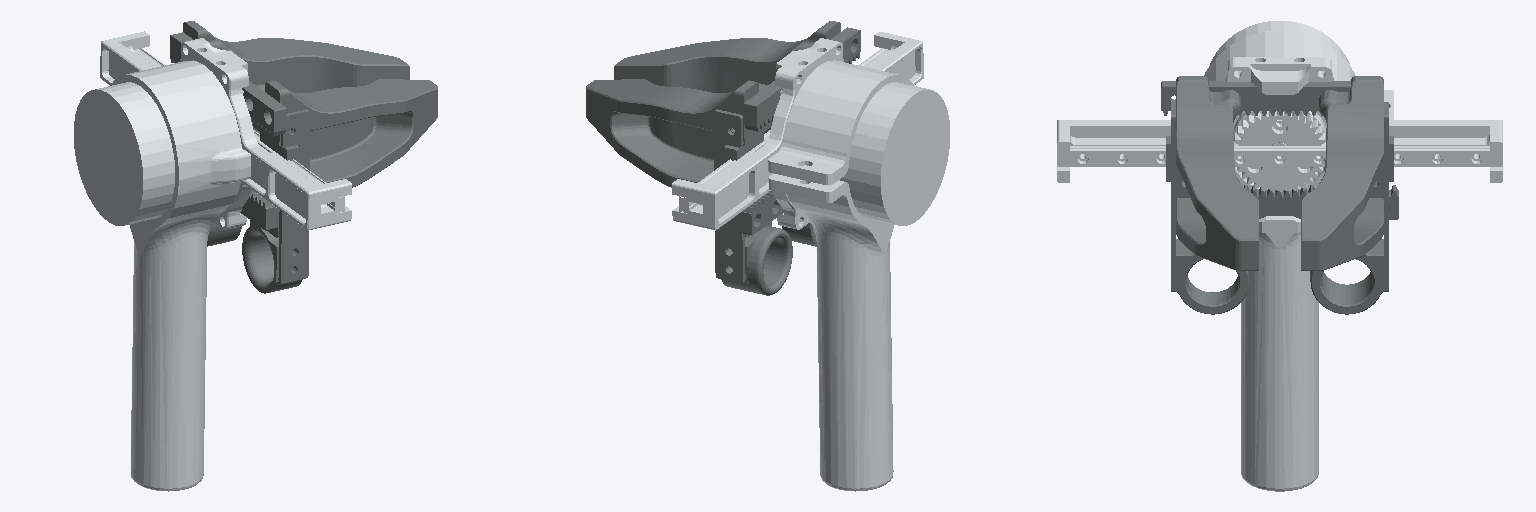
URDF robot description (y1_description):
<?xml version="1.0" encoding="utf-8"?>
<!-- This URDF was automatically created by SolidWorks to URDF Exporter! Originally created by [author] ([email redacted]) 
     Commit Version: 1.6.0-4-g7f85cfe  Build Version: 1.6.7995.38578
     For more information, please see http://wiki.ros.org/sw_urdf_exporter -->
<robot
  name="y1_description">
  <link name="world" />
  <joint name="fixed_base_joint" type="fixed">
      <parent link="world" />
      <child link="base_link" />
  </joint>
  <link
    name="base_link">
    <inertial>
      <origin
        xyz="-0.00594885814133116 1.74815920780943E-07 0.0348007672592276"
        rpy="0 0 0" />
      <mass
        value="0.710539568297306" />
      <inertia
        ixx="0.000443657464008301"
        ixy="6.25566859542446E-08"
        ixz="9.59870028750108E-07"
        iyy="0.000441077995533288"
        iyz="-9.972591125058E-09"
        izz="0.000508211347165629" />
    </inertial>
    <visual>
      <origin
        xyz="0 0 0"
        rpy="0 0 0" />
      <geometry>
        <mesh
          filename="package://y1_description/meshes3/base_link.STL" />
      </geometry>
      <material
        name="">
        <color
          rgba="1 1 1 1" />
      </material>
    </visual>
    <collision>
      <origin
        xyz="0 0 0"
        rpy="0 0 0" />
      <geometry>
        <mesh
          filename="package://y1_description/meshes3/base_link.STL" />
      </geometry>
    </collision>
  </link>
  <link
    name="link1">
    <inertial>
      <origin
        xyz="0.000681166801672071 -0.000462329144553358 0.045774892481422"
        rpy="0 0 0" />
      <mass
        value="0.465086237348566" />
      <inertia
        ixx="0.000229226849289421"
        ixy="6.51443398285881E-09"
        ixz="4.13823216869875E-08"
        iyy="0.000349392243512686"
        iyz="4.09909327547663E-06"
        izz="0.000228246849171451" />
    </inertial>
    <visual>
      <origin
        xyz="0 0 0"
        rpy="0 0 0" />
      <geometry>
        <mesh
          filename="package://y1_description/meshes3/link1.STL" />
      </geometry>
      <material
        name="">
        <color
          rgba="0.898039215686275 0.917647058823529 0.929411764705882 1" />
      </material>
    </visual>
    <collision>
      <origin
        xyz="0 0 0"
        rpy="0 0 0" />
      <geometry>
        <mesh
          filename="package://y1_description/meshes3/link1.STL" />
      </geometry>
    </collision>
  </link>
  <joint
    name="joint1"
    type="revolute">
    <origin
      xyz="0 0 0.06675"
      rpy="0 0 0" />
    <parent
      link="base_link" />
    <child
      link="link1" />
    <axis
      xyz="0 0 1" />
    <limit
      lower="-3.0"
      upper="3.0"
      effort="30"
      velocity="5" />
  </joint>
  <link
    name="link2">
    <inertial>
      <origin
        xyz="-0.188833638735521 -0.00103696741234356 -0.000652233492404068"
        rpy="0 0 0" />
      <mass
        value="1.00848298285328" />
      <inertia
        ixx="0.000410794334923653"
        ixy="-8.40217264906029E-05"
        ixz="8.54409117485566E-06"
        iyy="0.00604170923770196"
        iyz="-2.44381206367216E-07"
        izz="0.00611040782192728" />
    </inertial>
    <visual>
      <origin
        xyz="0 0 0"
        rpy="0 0 0" />
      <geometry>
        <mesh
          filename="package://y1_description/meshes3/link2.STL" />
      </geometry>
      <material
        name="">
        <color
          rgba="0.898039215686275 0.917647058823529 0.929411764705882 1" />
      </material>
    </visual>
    <collision>
      <origin
        xyz="0 0 0"
        rpy="0 0 0" />
      <geometry>
        <mesh
          filename="package://y1_description/meshes3/link2.STL" />
      </geometry>
    </collision>
  </link>
  <joint
    name="joint2"
    type="revolute">
    <origin
      xyz="0.00075 0 0.055"
      rpy="1.5707963267949 0 0" />
    <parent
      link="link1" />
    <child
      link="link2" />
    <axis
      xyz="0 0 1" />
    <limit
      lower="-3.5"
      upper="0.2"
      effort="100"
      velocity="5" />
  </joint>
  <link
    name="link3">
    <inertial>
      <origin
        xyz="0.13303236944819 0.053001605443094 0.000290607418881382"
        rpy="0 0 0" />
      <mass
        value="0.839664048562432" />
      <inertia
        ixx="0.000602602150085638"
        ixy="0.000475019647951162"
        ixz="4.78547835289741E-06"
        iyy="0.00179992027506354"
        iyz="2.90178948383027E-06"
        izz="0.00208247690030194" />
    </inertial>
    <visual>
      <origin
        xyz="0 0 0"
        rpy="0 0 0" />
      <geometry>
        <mesh
          filename="package://y1_description/meshes3/link3.STL" />
      </geometry>
      <material
        name="">
        <color
          rgba="0.898039215686275 0.917647058823529 0.929411764705882 1" />
      </material>
    </visual>
    <collision>
      <origin
        xyz="0 0 0"
        rpy="0 0 0" />
      <geometry>
        <mesh
          filename="package://y1_description/meshes3/link3.STL" />
      </geometry>
    </collision>
  </link>
  <joint
    name="joint3"
    type="revolute">
    <origin
      xyz="-0.28 0 0"
      rpy="0 0 0" />
    <parent
      link="link2" />
    <child
      link="link3" />
    <axis
      xyz="0 0 1" />
    <limit
      lower="-0.2"
      upper="4.1"
      effort="30"
      velocity="5" />
  </joint>
  <link
    name="link4">
    <inertial>
      <origin
        xyz="0.0676553454608046 0.0601804606336394 0.00493164046961679"
        rpy="0 0 0" />
      <mass
        value="0.45519280728148" />
      <inertia
        ixx="0.000175905701610462"
        ixy="2.09881793084199E-05"
        ixz="-5.70112881813549E-06"
        iyy="0.00021185619989683"
        iyz="-5.28404240592636E-06"
        izz="0.000207766320080551" />
    </inertial>
    <visual>
      <origin
        xyz="0 0 0"
        rpy="0 0 0" />
      <geometry>
        <mesh
          filename="package://y1_description/meshes3/link4.STL" />
      </geometry>
      <material
        name="">
        <color
          rgba="0.898039215686275 0.917647058823529 0.929411764705882 1" />
      </material>
    </visual>
    <collision>
      <origin
        xyz="0 0 0"
        rpy="0 0 0" />
      <geometry>
        <mesh
          filename="package://y1_description/meshes3/link4.STL" />
      </geometry>
    </collision>
  </link>
  <joint
    name="joint4"
    type="revolute">
    <origin
      xyz="0.215000000191949 0.062999999344955 0"
      rpy="0 0 0" />
    <parent
      link="link3" />
    <child
      link="link4" />
    <axis
      xyz="0 0 1" />
    <limit
      lower="-2.5"
      upper="1.7"
      effort="10"
      velocity="20" />
  </joint>
  <link
    name="link5">
    <inertial>
      <origin
        xyz="0.00184718198779937 1.71555473194154E-05 0.0401130289643779"
        rpy="0 0 0" />
      <mass
        value="0.37350857138172" />
      <inertia
        ixx="0.000164420724368751"
        ixy="9.01113714088934E-08"
        ixz="8.61462336637628E-06"
        iyy="0.000150227049138266"
        iyz="7.29000317164614E-07"
        izz="0.000141162755688236" />
    </inertial>
    <visual>
      <origin
        xyz="0 0 0"
        rpy="0 0 0" />
      <geometry>
        <mesh
          filename="package://y1_description/meshes3/link5.STL" />
      </geometry>
      <material
        name="">
        <color
          rgba="0.898039215686275 0.917647058823529 0.929411764705882 1" />
      </material>
    </visual>
    <collision>
      <origin
        xyz="0 0 0"
        rpy="0 0 0" />
      <geometry>
        <mesh
          filename="package://y1_description/meshes3/link5.STL" />
      </geometry>
    </collision>
  </link>
  <joint
    name="joint5"
    type="revolute">
    <origin
      xyz="0.0808173961212753 0.0507202965702747 0.000249997832943334"
      rpy="1.5707963267949 0 0" />
    <parent
      link="link4" />
    <child
      link="link5" />
    <axis
      xyz="0 0 1" />
    <limit
      lower="-2.0"
      upper="2.0"
      effort="10"
      velocity="20" />
  </joint>
  <link
    name="link6">
    <inertial>
      <origin
        xyz="-7.49599778135379E-06 -0.00013005136298912 0.0107241456109823"
        rpy="0 0 0" />
      <mass
        value="0.0710864913917462" />
      <inertia
        ixx="1.6401347920533E-05"
        ixy="-1.49553772726508E-07"
        ixz="2.14734308108841E-07"
        iyy="1.63719812629545E-05"
        iyz="1.0859635466048E-08"
        izz="3.09205907254189E-05" />
    </inertial>
    <visual>
      <origin
        xyz="0 0 0"
        rpy="0 0 0" />
      <geometry>
        <mesh
          filename="package://y1_description/meshes3/link6.STL" />
      </geometry>
      <material
        name="">
        <color
          rgba="0.898039215686275 0.917647058823529 0.929411764705882 1" />
      </material>
    </visual>
    <collision>
      <origin
        xyz="0 0 0"
        rpy="0 0 0" />
      <geometry>
        <mesh
          filename="package://y1_description/meshes3/link6.STL" />
      </geometry>
    </collision>
  </link>
  <joint
    name="joint6"
    type="revolute">
    <origin
      xyz="0.0227968089529965 0 0.0443684065693784"
      rpy="0 1.5707963267949 0" />
    <parent
      link="link5" />
    <child
      link="link6" />
    <axis
      xyz="0 0 1" />
    <limit
      lower="-3.0"
      upper="3.0"
      effort="10"
      velocity="20" />
  </joint>
  <link
    name="gripper_base">
    <inertial>
      <origin
        xyz="-0.00700176694161 -0.000212788524493902 -0.0240168874492286"
        rpy="0 0 0" />
      <mass
        value="0.536624581352333" />
      <inertia
        ixx="0.000374903808720845"
        ixy="-6.54739678787425E-06"
        ixz="3.53345357821216E-07"
        iyy="0.00031566693071409"
        iyz="2.18904716224086E-07"
        izz="0.000571166137494043" />
    </inertial>
    <visual>
      <origin
        xyz="0 0 0"
        rpy="0 0 0" />
      <geometry>
        <mesh
          filename="package://y1_description/meshes3/gripper_base.STL" />
      </geometry>
      <material
        name="">
        <color
          rgba="0.898039215686275 0.917647058823529 0.929411764705882 1" />
      </material>
    </visual>
    <collision>
      <origin
        xyz="0 0 0"
        rpy="0 0 0" />
      <geometry>
        <mesh
          filename="package://y1_description/meshes3/gripper_base.STL" />
      </geometry>
    </collision>
  </link>
  <joint
    name="gripper_base"
    type="fixed">
    <origin
      xyz="-0.00120627967358662 0 0.0757904010332325"
      rpy="0 -0.015914651654156 0" />
    <parent
      link="link6" />
    <child
      link="gripper_base" />
    <axis
      xyz="0 0 0" />
  </joint>
  <link
    name="link7">
    <inertial>
      <origin
        xyz="0.0120135806789793 -0.0159433118652379 0.0624450165783609"
        rpy="0 0 0" />
      <mass
        value="0.113470186164613" />
      <inertia
        ixx="3.95860305269198E-05"
        ixy="-2.31986817333962E-07"
        ixz="4.56743345616141E-06"
        iyy="5.60709003183666E-05"
        iyz="-8.82254889292121E-08"
        izz="3.8514737468035E-05" />
    </inertial>
    <visual>
      <origin
        xyz="0 0 0"
        rpy="0 0 0" />
      <geometry>
        <mesh
          filename="package://y1_description/meshes3/link7.STL" />
      </geometry>
      <material
        name="">
        <color
          rgba="0.529411764705882 0.549019607843137 0.549019607843137 1" />
      </material>
    </visual>
    <collision>
      <origin
        xyz="0 0 0"
        rpy="0 0 0" />
      <geometry>
        <mesh
          filename="package://y1_description/meshes3/link7.STL" />
      </geometry>
    </collision>
  </link>
  <joint
    name="joint7"
    type="prismatic">
    <origin
      xyz="0 -0.080000000000001 0"
      rpy="-1.5707963267949 -1.55488167514075 0" />
    <parent
      link="gripper_base" />
    <child
      link="link7" />
    <axis
      xyz="0 0 -1" />
    <limit
      lower="0"
      upper="0.04"
      effort="10"
      velocity="20" />
  </joint>
  <link
    name="link8">
    <inertial>
      <origin
        xyz="0.0134925446453209 0.00669131845713138 -0.0634959272805148"
        rpy="0 0 0" />
      <mass
        value="0.100574720377502" />
      <inertia
        ixx="3.75415889058305E-05"
        ixy="-2.84480389274779E-07"
        ixz="-4.57930555459039E-06"
        iyy="5.46745830656943E-05"
        iyz="3.21559379104778E-08"
        izz="3.69576585977119E-05" />
    </inertial>
    <visual>
      <origin
        xyz="0 0 0"
        rpy="0 0 0" />
      <geometry>
        <mesh
          filename="package://y1_description/meshes3/link8.STL" />
      </geometry>
      <material
        name="">
        <color
          rgba="0.529411764705882 0.549019607843137 0.549019607843137 1" />
      </material>
    </visual>
    <collision>
      <origin
        xyz="0 0 0"
        rpy="0 0 0" />
      <geometry>
        <mesh
          filename="package://y1_description/meshes3/link8.STL" />
      </geometry>
    </collision>
  </link>
  <joint
    name="joint8"
    type="prismatic">
    <origin
      xyz="0 0.079999999999999 0"
      rpy="-1.5707963267949 -1.55488167514075 0" />
    <parent
      link="gripper_base" />
    <child
      link="link8" />
    <axis
      xyz="0 0 1" />
    <mimic joint="joint7" multiplier="1.0" offset="0.0"/>
    <limit
      lower="0"
      upper="0.04"
      effort="10"
      velocity="20" />
  </joint>
</robot>

--- What the picture shows (computed from the rendered views, not written in the file) ---
3 views of the same robot in one strip: view 1: azimuth 30°, elevation 25°; view 2: azimuth 150°, elevation 25°; view 3: azimuth 270°, elevation 25° (orthographic).
Model y1_description with 11 links and 10 joints (6 revolute, 2 prismatic, 2 fixed), rooted at world, posed every joint at zero.
Visible links, largest first — view 1: gripper_base, link8, link7; view 2: gripper_base, link7, link8; view 3: gripper_base, link8, link7.
Link boxes in pixels (bbox=[...]): gripper_base: bbox=[74, 31, 351, 491]; link8: bbox=[170, 32, 437, 293]; link7: bbox=[183, 21, 409, 246]; gripper_base: bbox=[672, 32, 949, 491]; link7: bbox=[586, 79, 792, 295]; link8: bbox=[614, 21, 860, 246]; gripper_base: bbox=[1057, 21, 1502, 491]; link8: bbox=[1161, 76, 1350, 314]; link7: bbox=[1244, 76, 1398, 314].
Size in the robot's own frame: 0.147 by 0.17 by 0.1849 metres.
3 mesh visuals loaded from 10 distinct referenced files (3 binary STL); not drawn: 7 (reference not matched to a file when rendering).